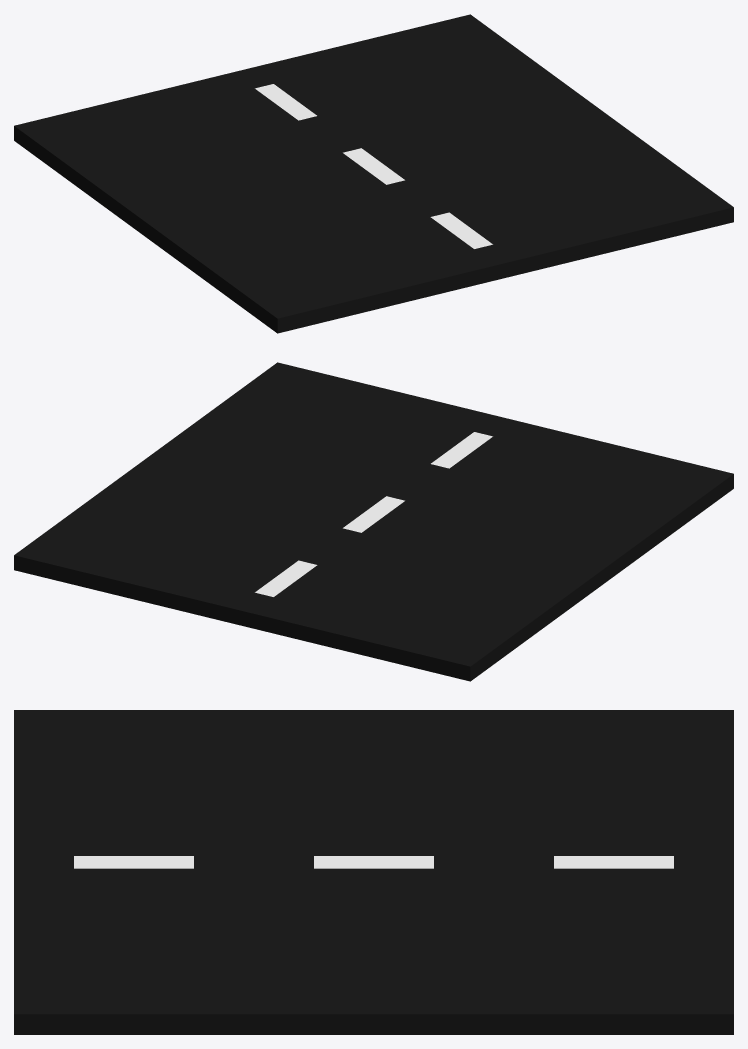
The model's file is road-6.obj.
3 views of the same model, one above another, from view 1: azimuth 30°, elevation 25°; view 2: azimuth 150°, elevation 25°; view 3: azimuth 270°, elevation 25° (orthographic). The views are drawn at different scales.
Bounding box in the file's own units: 9.6 × 0.3 × 9.6.
1 material, 1 textured.
